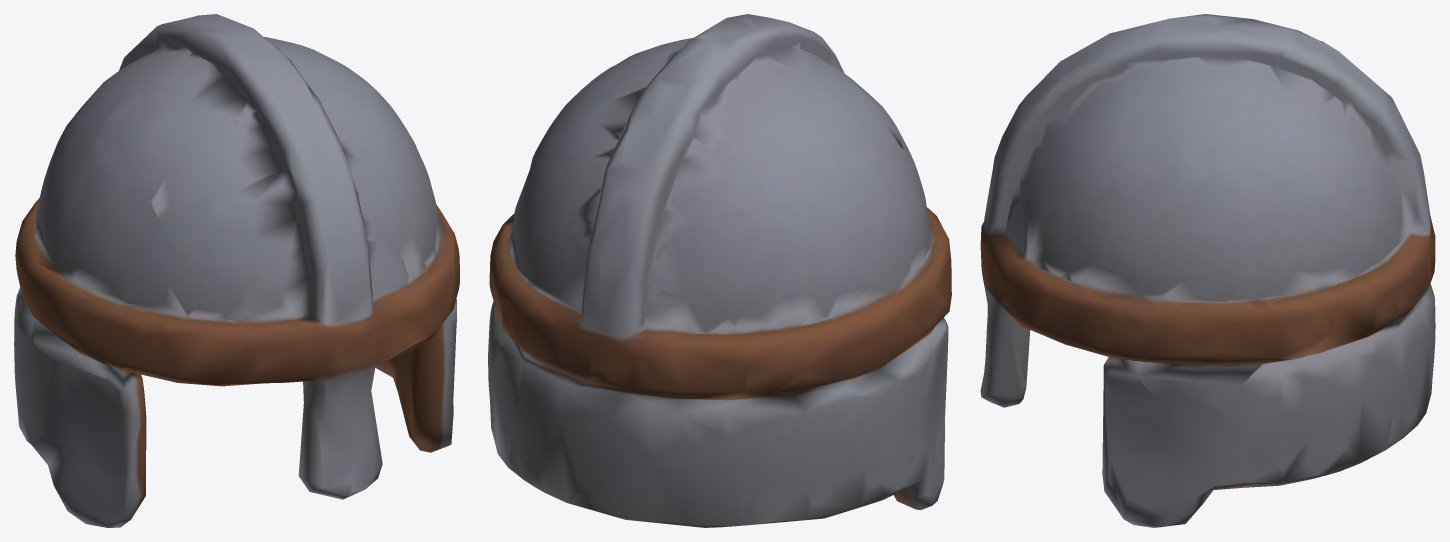
File: hat_nasalHelm-C4BBIZxN.glb
The picture shows the model from 3 angles, left to right: view 1: azimuth 30°, elevation 25°; view 2: azimuth 150°, elevation 25°; view 3: azimuth 270°, elevation 25°; orthographic projection. The views are drawn at different scales.
Parts seen in each view (by area): view 1: tripo_node_7ce9e940-ff5b-4e7e-9698-70bd88bb9826; view 2: tripo_node_7ce9e940-ff5b-4e7e-9698-70bd88bb9826; view 3: tripo_node_7ce9e940-ff5b-4e7e-9698-70bd88bb9826.
Part boxes in pixels (x1=…): tripo_node_7ce9e940-ff5b-4e7e-9698-70bd88bb9826: x1=14, y1=14, x2=459, y2=527; tripo_node_7ce9e940-ff5b-4e7e-9698-70bd88bb9826: x1=488, y1=14, x2=951, y2=527; tripo_node_7ce9e940-ff5b-4e7e-9698-70bd88bb9826: x1=980, y1=14, x2=1435, y2=527.
Size of the model in its own units: 0.9347 by 1 by 0.9705.
Materials: 1 (1 with a texture image).
